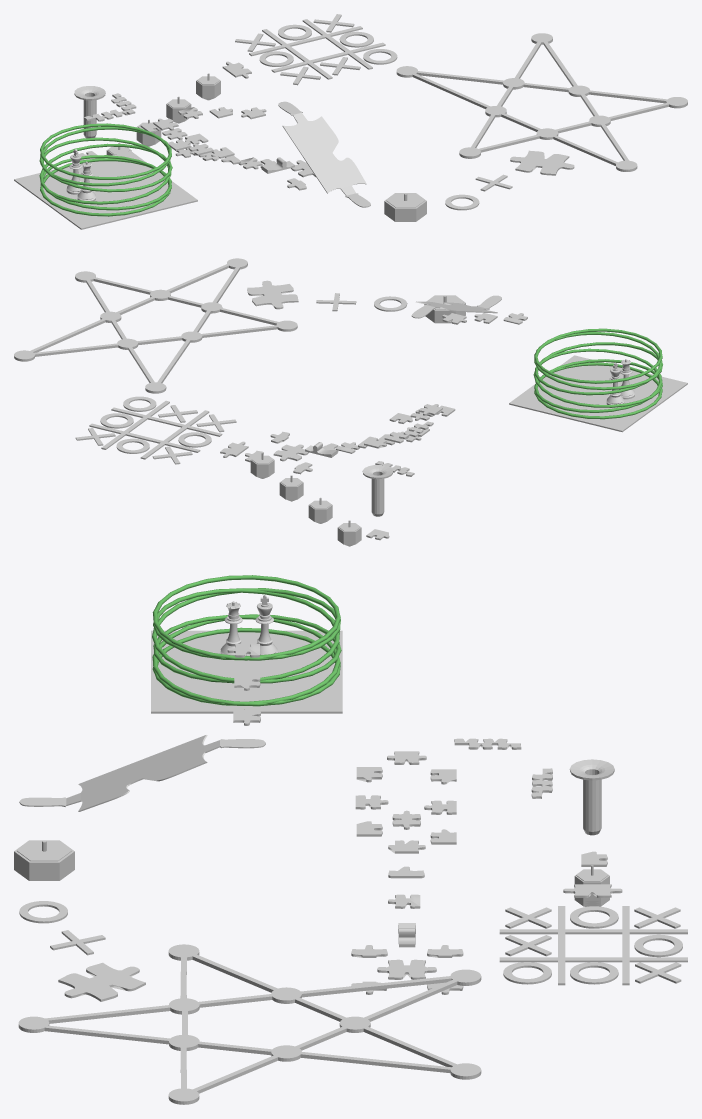
The model's file is platform4.fbx.
The picture shows the model from 3 angles, top to bottom: view 1: azimuth 30°, elevation 25°; view 2: azimuth 150°, elevation 25°; view 3: azimuth 270°, elevation 25°; orthographic projection. The views are drawn at different scales.
Visible parts, largest first — view 1: senku, TorusKnot3x2, chessboard, puzzlePiece21, tictactoe, perinola5, puzzlePiece19, puzzleCylinder1, king&queenSculpture, perinola1, perinola2, c3; view 2: senku, TorusKnot3x2, chessboard, tictactoe, puzzlePiece19, puzzleCylinder1, puzzlePiece21, king&queenSculpture, perinola5, perinola3, perinola1, perinola4 (+1 smaller); view 3: senku, chessboard, TorusKnot3x2, puzzlePiece21, tictactoe, perinola5, puzzlePiece19, puzzleCylinder1, king&queenSculpture, puzzlePiece1.
Boxes of the visible parts, bbox=[...] form: senku: bbox=[396, 33, 687, 171]; TorusKnot3x2: bbox=[39, 123, 172, 216]; chessboard: bbox=[14, 151, 197, 229]; puzzlePiece21: bbox=[278, 101, 370, 207]; tictactoe: bbox=[249, 19, 385, 79]; perinola5: bbox=[384, 193, 426, 221]; puzzlePiece19: bbox=[510, 150, 574, 175]; puzzleCylinder1: bbox=[74, 86, 105, 138]; king&queenSculpture: bbox=[66, 149, 95, 201]; perinola1: bbox=[196, 73, 220, 100]; perinola2: bbox=[166, 96, 191, 123]; c3: bbox=[339, 31, 373, 47]; senku: bbox=[14, 258, 297, 393]; TorusKnot3x2: bbox=[533, 328, 662, 419]; chessboard: bbox=[509, 355, 687, 432]; tictactoe: bbox=[89, 400, 222, 459]; puzzlePiece19: bbox=[247, 280, 298, 309]; puzzleCylinder1: bbox=[362, 465, 392, 516]; puzzlePiece21: bbox=[411, 295, 501, 318]; king&queenSculpture: bbox=[606, 359, 634, 404]; perinola5: bbox=[424, 295, 465, 323]; perinola3: bbox=[308, 497, 332, 523]; perinola1: bbox=[250, 452, 274, 478]; perinola4: bbox=[337, 520, 361, 546]; senku: bbox=[18, 944, 481, 1104]; chessboard: bbox=[151, 630, 342, 713]; TorusKnot3x2: bbox=[152, 575, 341, 706]; puzzlePiece21: bbox=[19, 735, 265, 811]; tictactoe: bbox=[499, 906, 687, 985]; perinola5: bbox=[14, 840, 74, 880]; puzzlePiece19: bbox=[58, 962, 145, 1001]; puzzleCylinder1: bbox=[569, 759, 614, 835]; king&queenSculpture: bbox=[220, 595, 277, 655]; puzzlePiece1: bbox=[377, 959, 436, 979].
Size of the model in its own units: 11955 by 2927 by 7943.
